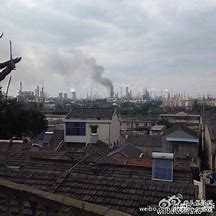smoke: (67, 52, 114, 95)
